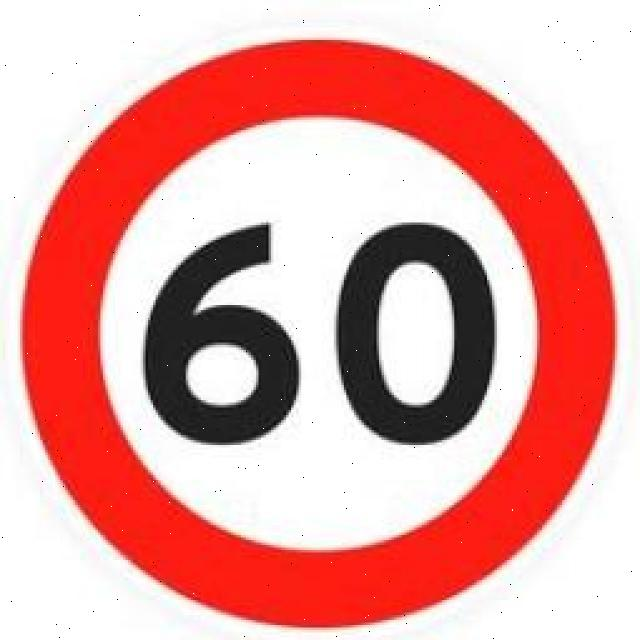speed limit 60: (17, 40, 617, 629)
